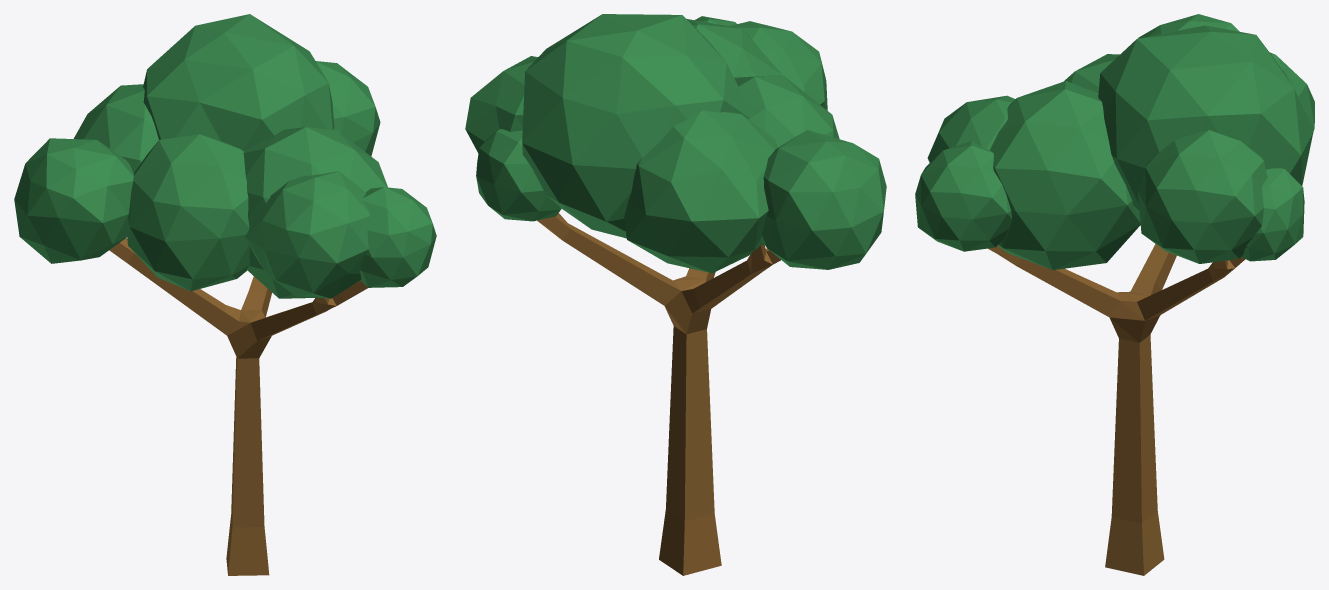
Rendered from tree3.glb.
The picture shows the model from 3 angles, left to right: view 1: azimuth 30°, elevation 25°; view 2: azimuth 150°, elevation 25°; view 3: azimuth 270°, elevation 25°; orthographic projection. The views are drawn at different scales.
Visible parts, largest first — view 1: Object_4.005; view 2: Object_4.005; view 3: Object_4.005.
Part boxes in pixels (x1,y1,x2,y2): Object_4.005: (14, 14, 436, 575); Object_4.005: (465, 14, 886, 575); Object_4.005: (915, 14, 1314, 575).
Bounding box in the file's own units: 0.953 × 1.3 × 0.8778.
